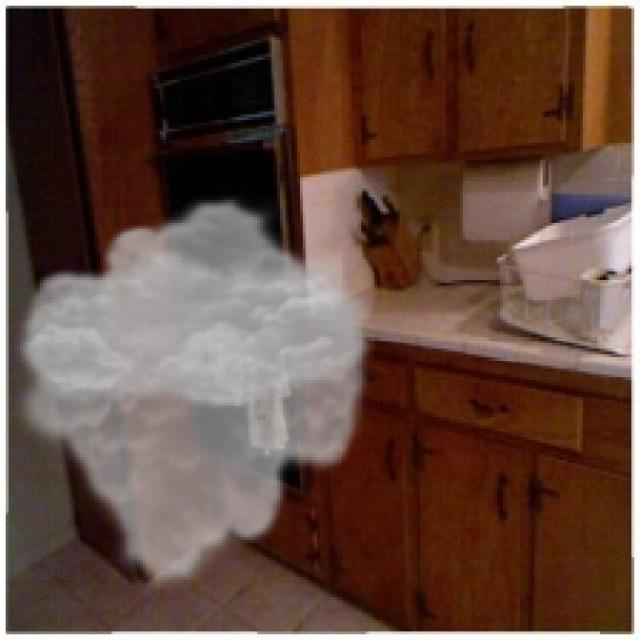smoke: (9, 194, 380, 592)
